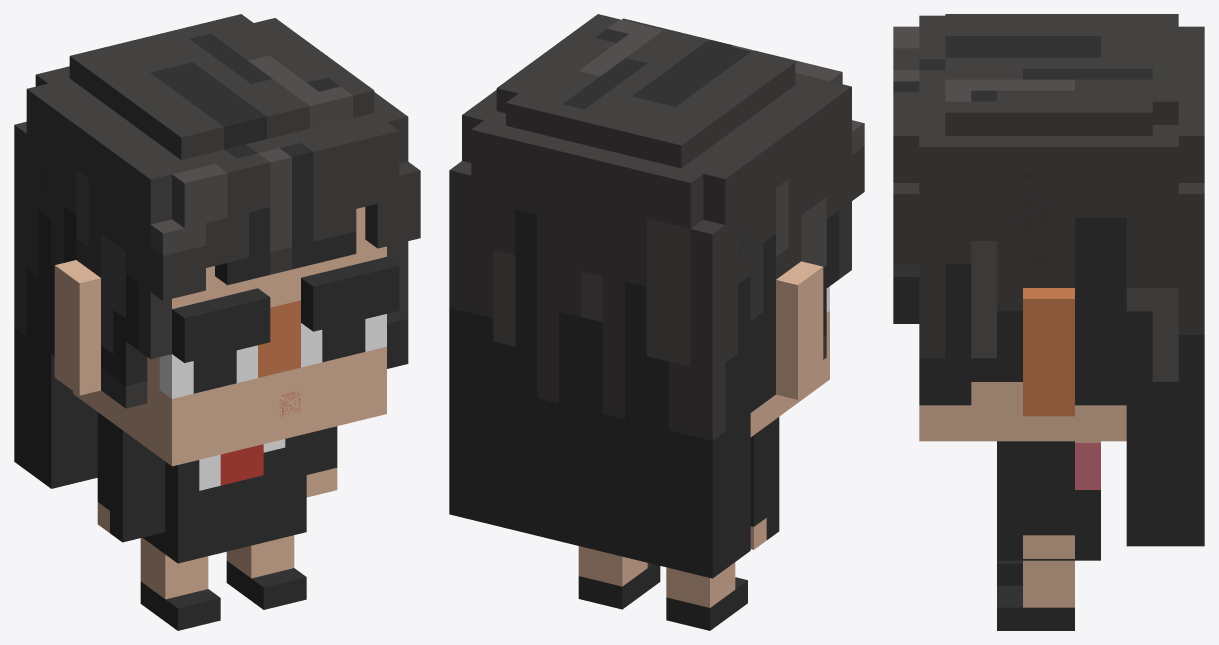
3 views of the same model, side by side, from view 1: azimuth 30°, elevation 25°; view 2: azimuth 150°, elevation 25°; view 3: azimuth 270°, elevation 25° (orthographic). The views are drawn at different scales.
Parts seen in each view (by area): view 1: Object_0; view 2: Object_0; view 3: Object_0.
Part boxes in pixels (left/top/right/bottom): Object_0: left=14, top=14, right=420, bottom=630; Object_0: left=449, top=14, right=864, bottom=630; Object_0: left=893, top=14, right=1204, bottom=630.
Bounding box in the file's own units: 1.03 × 1.7 × 0.887.
1 material, 1 textured.
